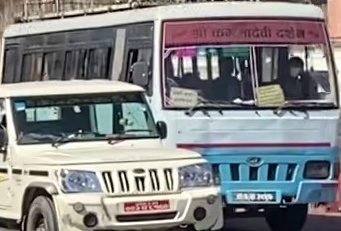license_plate: (122, 200, 171, 213), (231, 192, 277, 202)
